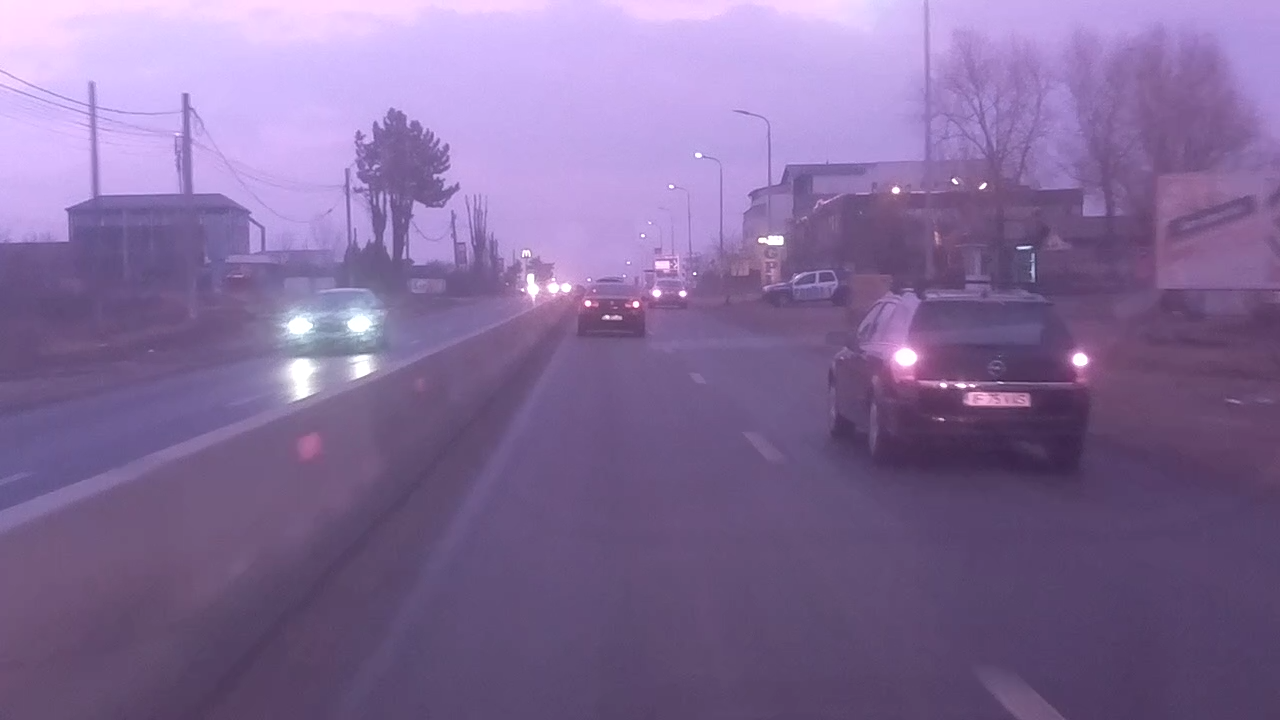license-plate: (961, 389, 1034, 410)
